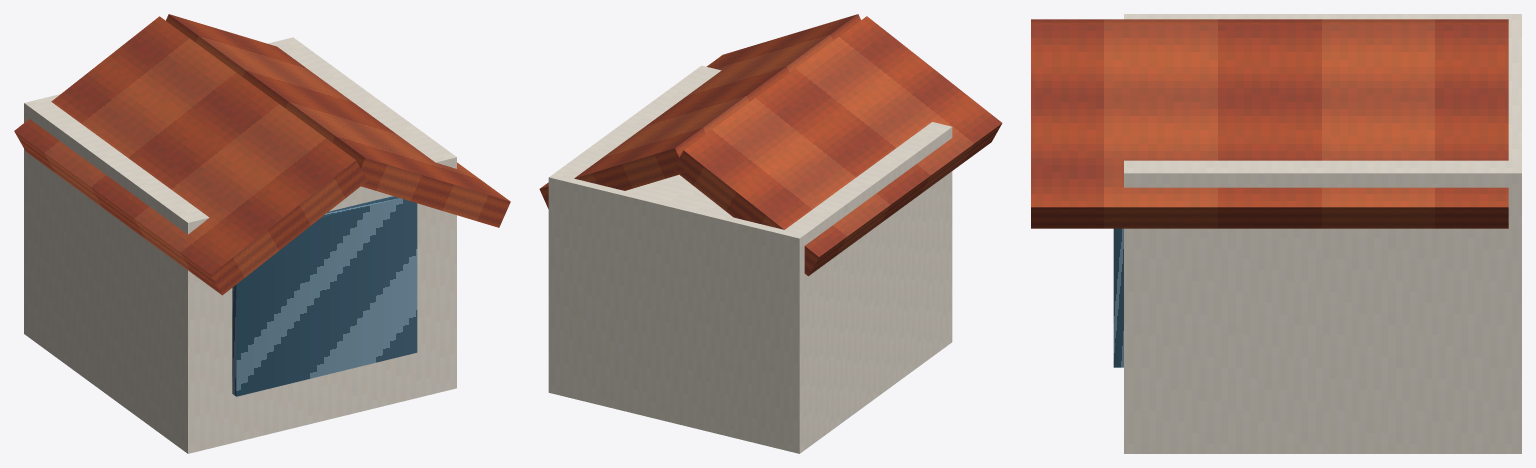
The model's file is dormer-roof-lod1.glb.
3 renders of one model, left to right at view 1: azimuth 30°, elevation 25°; view 2: azimuth 150°, elevation 25°; view 3: azimuth 270°, elevation 25°, orthographic. The views are drawn at different scales.
Parts seen in each view (by area): view 1: dormer-roof-lod1; view 2: dormer-roof-lod1; view 3: dormer-roof-lod1.
Part boxes in pixels (x1,y1,x2,y2): dormer-roof-lod1: [14, 14, 510, 453]; dormer-roof-lod1: [539, 14, 1002, 453]; dormer-roof-lod1: [1031, 14, 1521, 453].
Size of the model in its own units: 1.43 by 1.32 by 1.67.
Materials: 1 (1 with a texture image).
